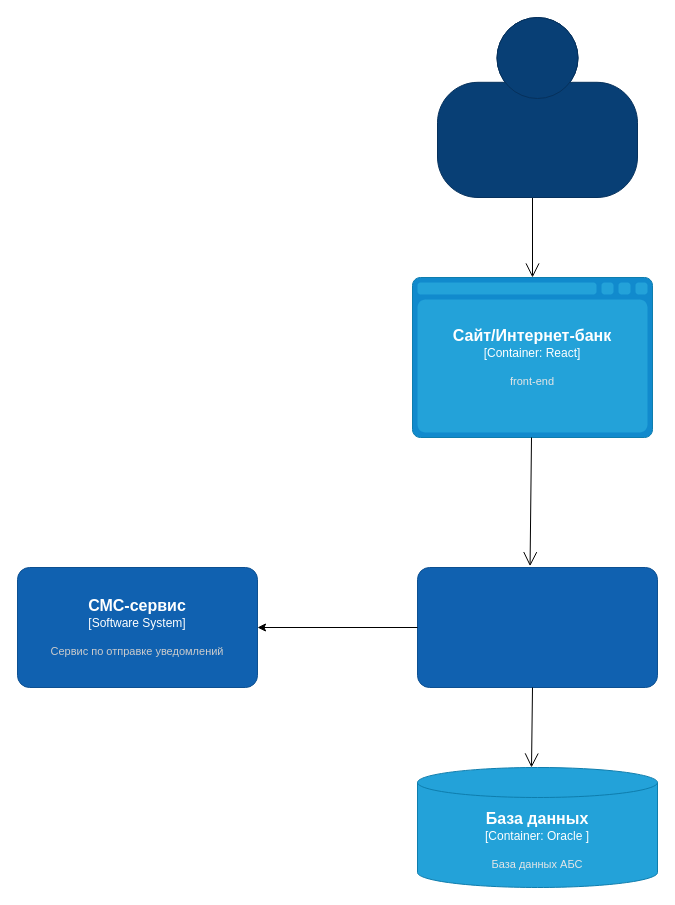
Some shapes in this 675 by 905 pixel diagram are drawn without their labels. The shapes that lost their labels are listed below. From the top down, each one's centre as x and y in pixels, then its label:
At [537,107]: "Клиент [Клиент]".
At [537,627]: "АБС [Software System] back-end".
